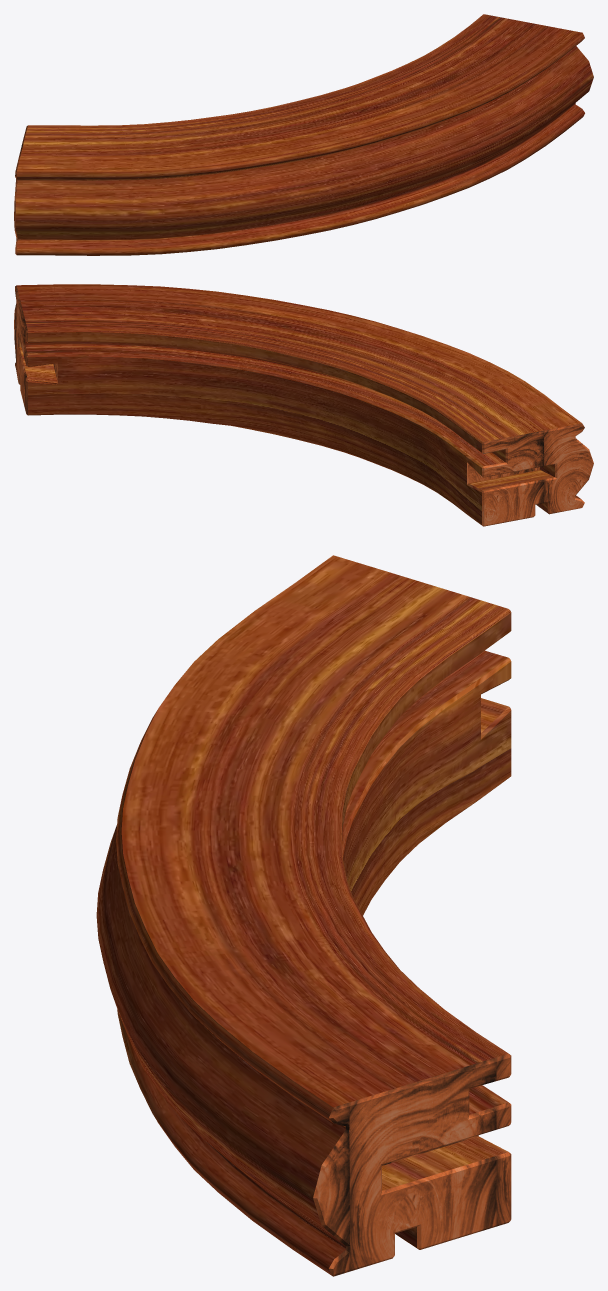
Rendered from YuanDeng_J_D_biankuang_5.FBX.
3 renders of one model, top to bottom at view 1: azimuth 30°, elevation 25°; view 2: azimuth 150°, elevation 25°; view 3: azimuth 270°, elevation 25°, orthographic. The views are drawn at different scales.
Parts seen in each view (by area): view 1: YuanDeng_J_D_biankuang_5; view 2: YuanDeng_J_D_biankuang_5; view 3: YuanDeng_J_D_biankuang_5.
Part boxes in pixels (x1,y1,x2,y2): YuanDeng_J_D_biankuang_5: (14,14,593,255); YuanDeng_J_D_biankuang_5: (14,284,593,526); YuanDeng_J_D_biankuang_5: (96,555,511,1276).
Bounding box in the file's own units: 25.07 × 3.57 × 7.77.
2 materials, 2 textured.
